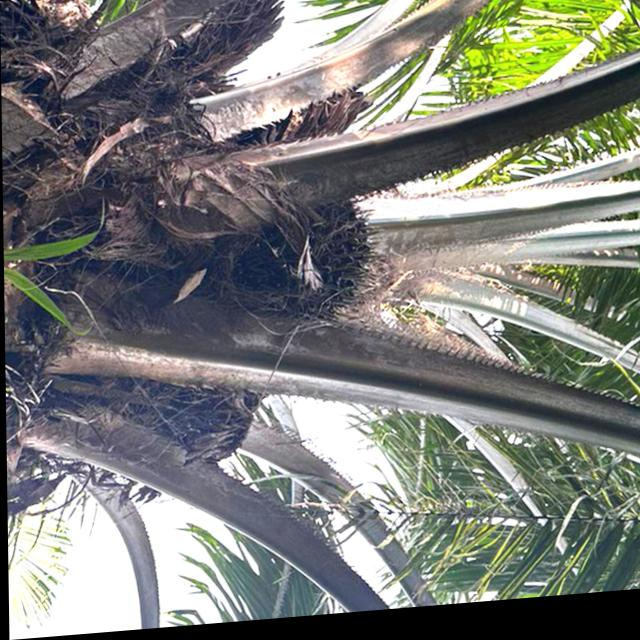ripe: (219, 199, 388, 349)
